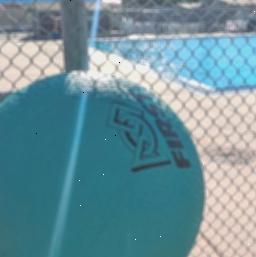algae: (0, 64, 210, 257)
